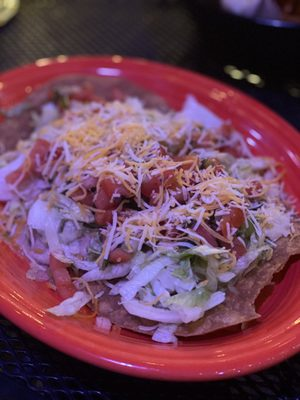sushi: (0, 62, 299, 390)
